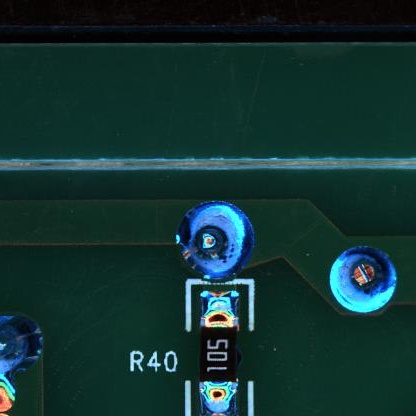spot: (178, 200, 256, 280), (329, 245, 396, 312)
